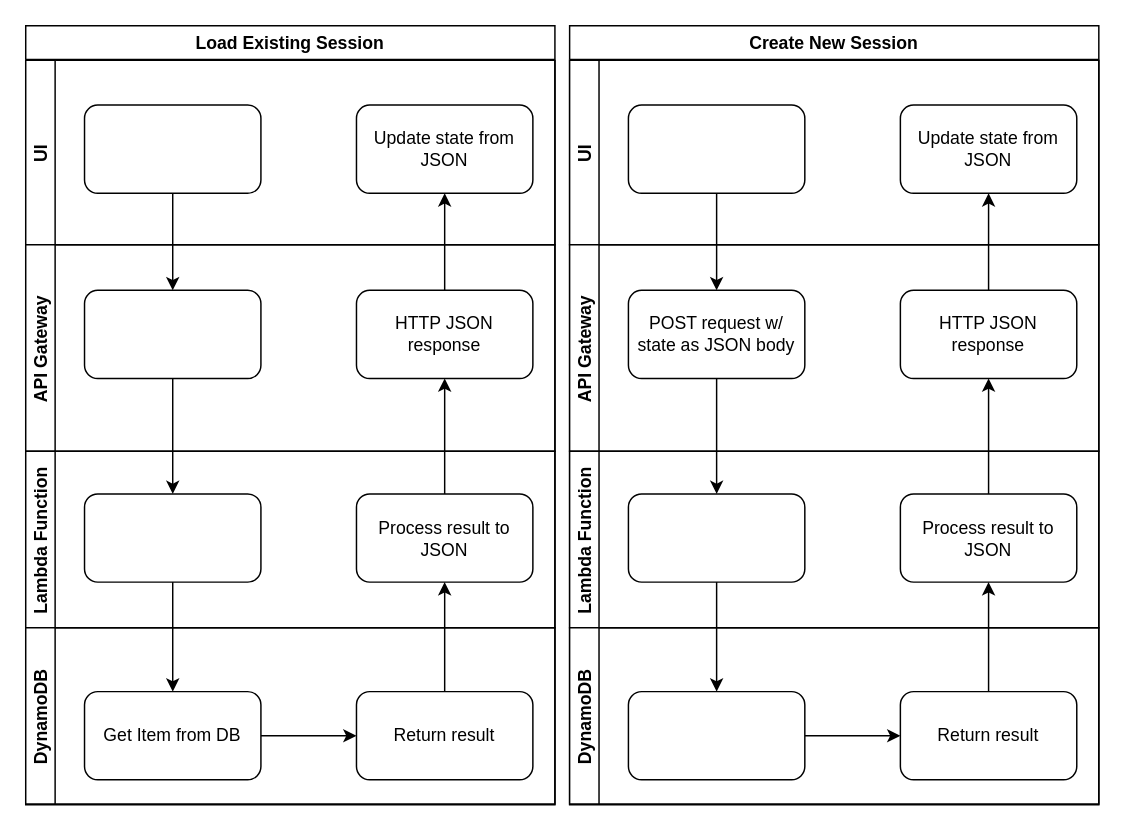
The diagram is 1125 pixels wide and 831 high, and some of its shapes have lost their labels. The centre of each missing label's shape, as x and y in pixels:
"GET request w/ id query param" goes at (x=172, y=334).
"Get Session by ID" goes at (x=172, y=537).
"Load Session" goes at (x=172, y=148).
"New Session" goes at (x=716, y=148).
"Put Item in DB" goes at (x=716, y=735).
"Save session" goes at (x=716, y=537).
